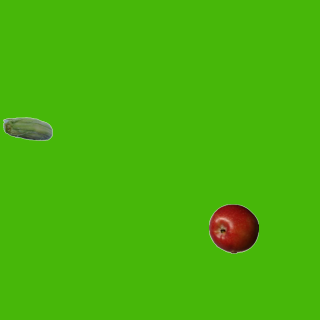Apple Braeburn: (208, 203, 258, 253)
Corn Husk: (2, 105, 52, 155)
